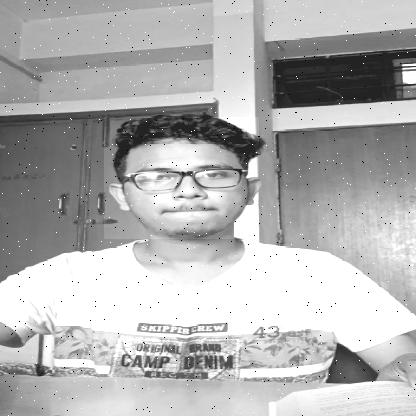Normal: (104, 117, 259, 239)
